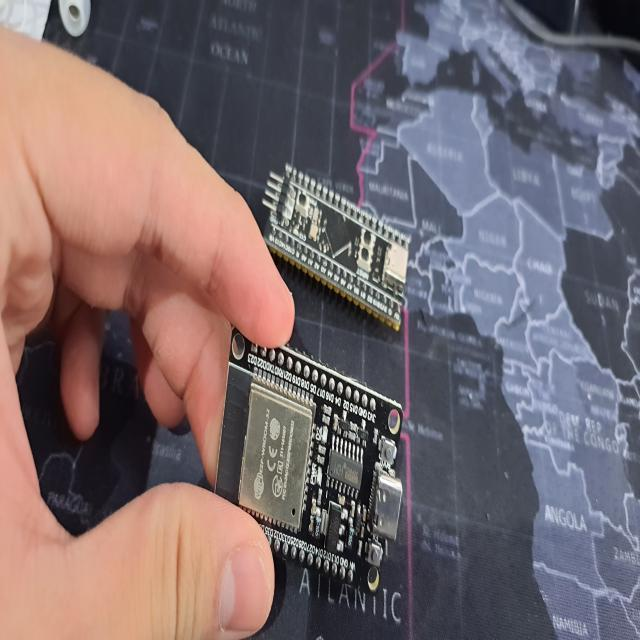ESP32: (219, 332, 403, 592)
STM32: (258, 159, 414, 338)
